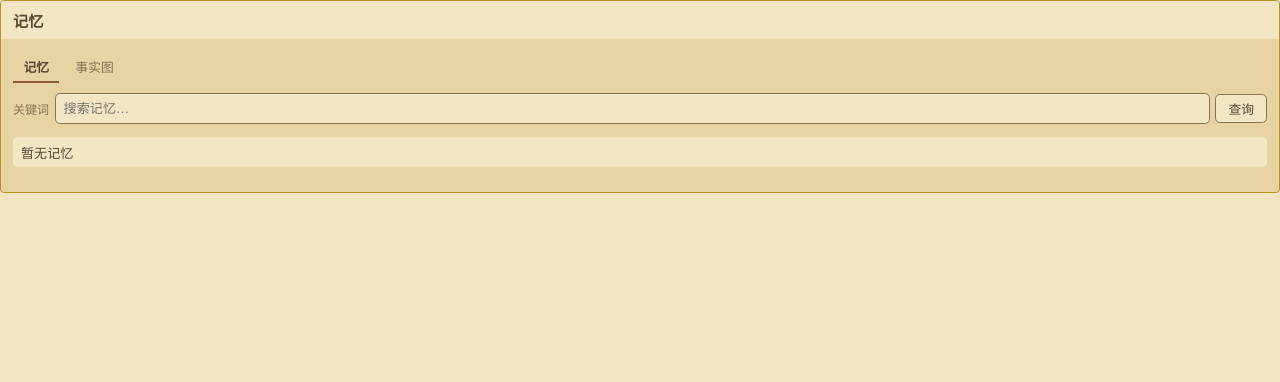
it: MemoryPanel › 事实图：用实体节点和关系边展示当前事实
The width and height of the screenshot is (1280, 382).
Click the tab "事实图": (95, 67) left=65, top=52, right=124, bottom=83
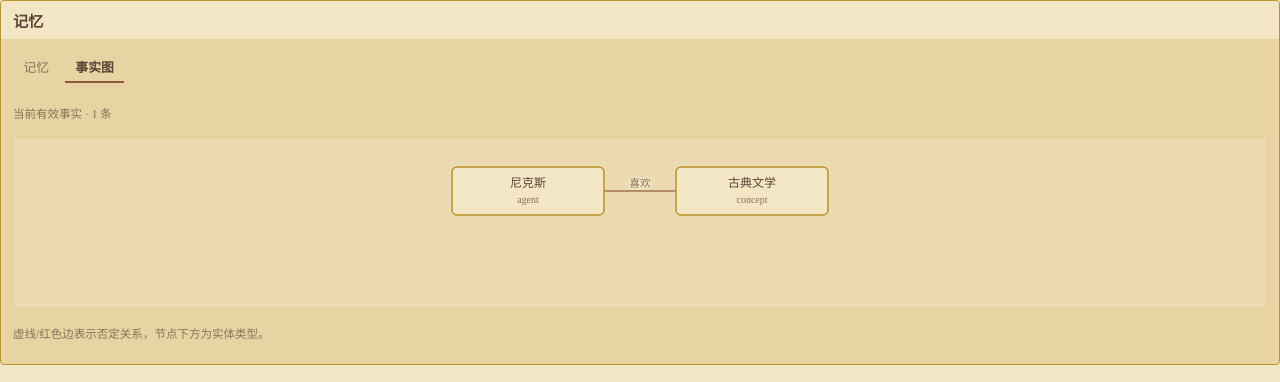
Check: the text "尼克斯" is shown, box left=510, top=176, right=546, bottom=190
Check: the picture named "事实关系图" is shown, box left=18, top=143, right=1262, bottom=303
